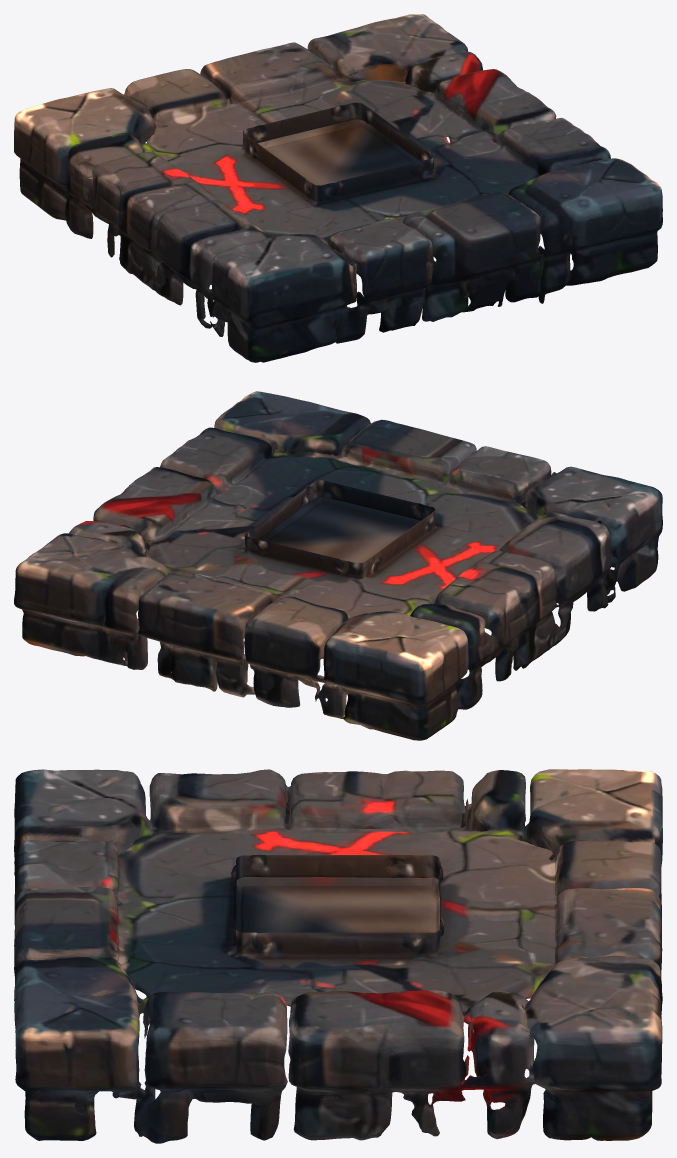
Rendered from bolt_plate.glb.
The picture shows the model from 3 angles, top to bottom: view 1: azimuth 30°, elevation 25°; view 2: azimuth 150°, elevation 25°; view 3: azimuth 270°, elevation 25°; orthographic projection. The views are drawn at different scales.
Parts seen in each view (by area): view 1: bolt_plate; view 2: bolt_plate; view 3: bolt_plate.
Boxes of the visible parts, box(x1,y1,x2,y2) form: bolt_plate: box(14, 14, 662, 362); bolt_plate: box(14, 391, 662, 740); bolt_plate: box(14, 769, 662, 1143).
Bounding box in the file's own units: 2.04 × 0.4758 × 2.07.
Materials: 1 (1 with a texture image).
